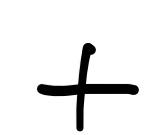plus: (37, 43, 139, 131)
